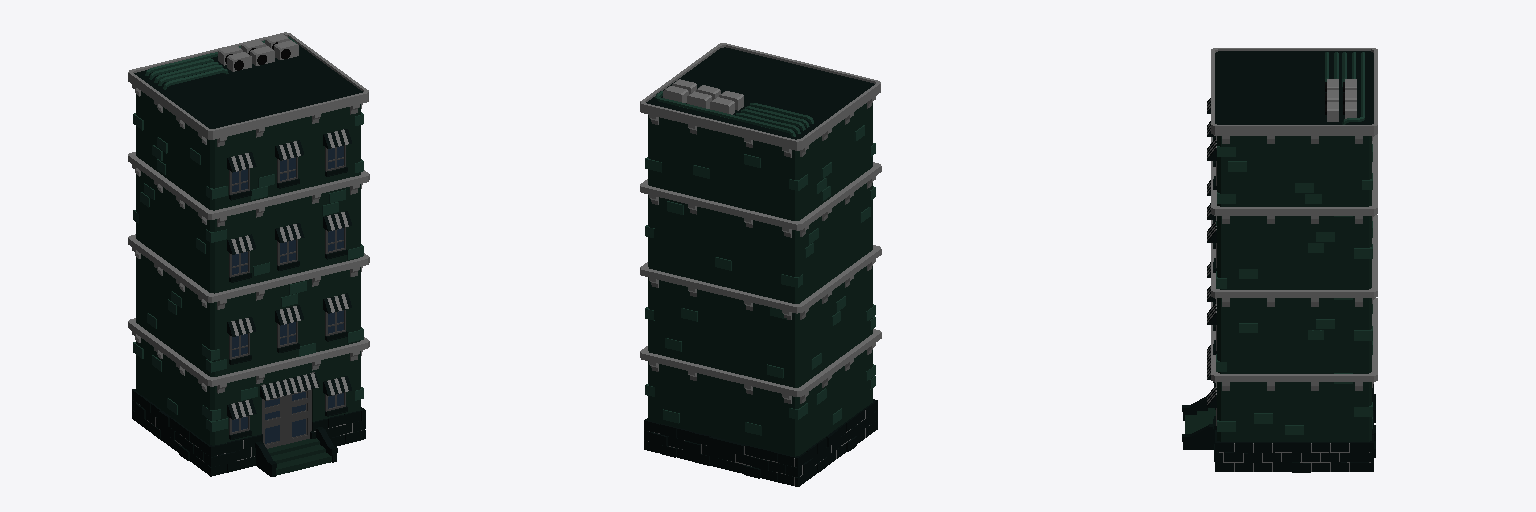
File: 4Story_Mat.obj
The picture shows the model from 3 angles: view 1: azimuth 30°, elevation 25°; view 2: azimuth 150°, elevation 25°; view 3: azimuth 270°, elevation 25°; orthographic projection.
Visible parts, largest first — view 1: 4Story_Mat_Cube.024; view 2: 4Story_Mat_Cube.024; view 3: 4Story_Mat_Cube.024.
Part boxes in pixels (x1,y1,x2,y2): 4Story_Mat_Cube.024: (128, 32, 369, 476); 4Story_Mat_Cube.024: (640, 43, 881, 486); 4Story_Mat_Cube.024: (1182, 48, 1377, 472).
Size of the model in its own units: 2.42 by 5.09 by 2.53.